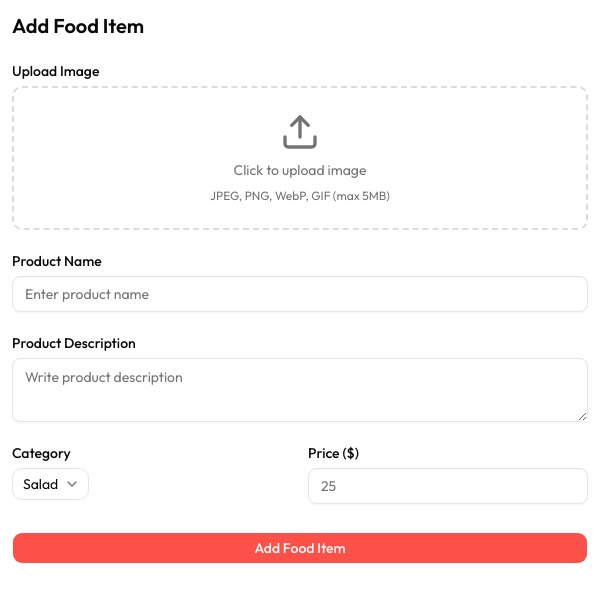
Scenario: AddFoodForm › shows image error when no image is selected on submit
The width and height of the screenshot is (605, 608).
Type "Test Food" into the field labelled "Product Name" at [300, 294], box [12,276,588,312]
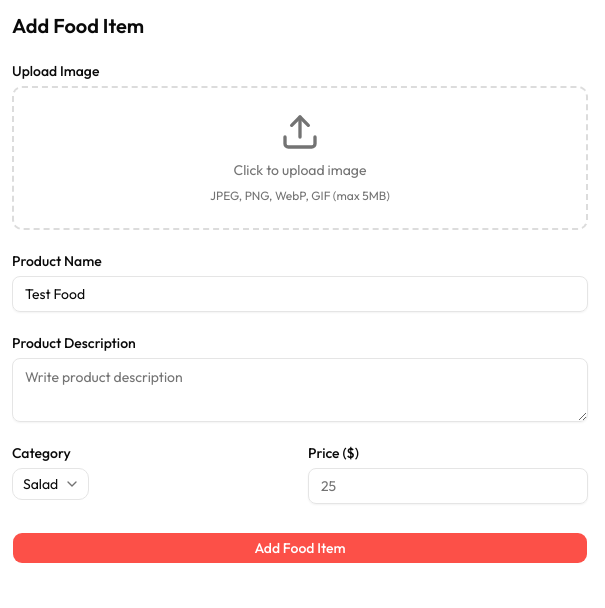
Type "A tasty test food item" into the text box labelled "Product Description" at [300, 390], box [12,358,588,422]
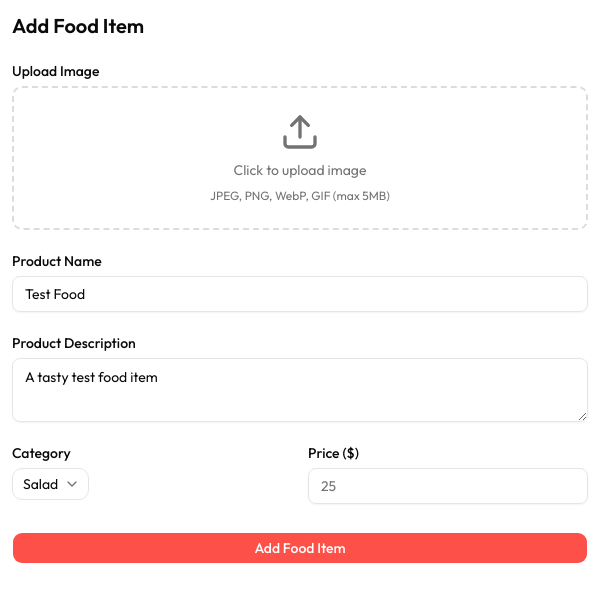
Type "15" into the number field labelled "Price ($)" at [448, 486], box [308,468,588,504]
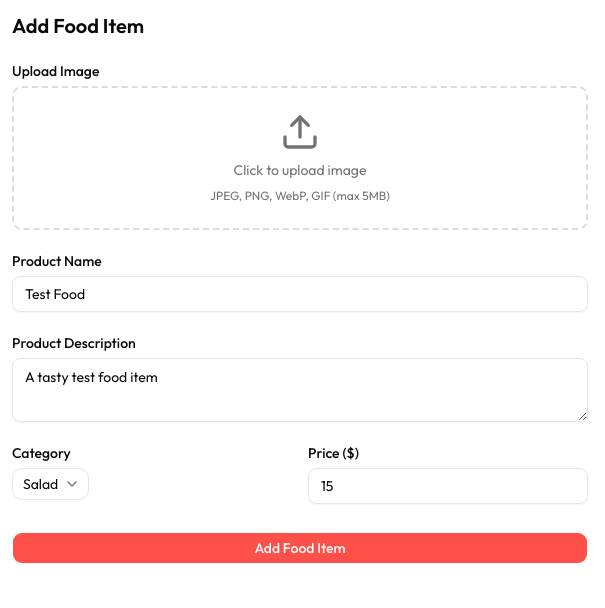
Click the button "Add Food Item" at [300, 548], box [12,532,588,564]
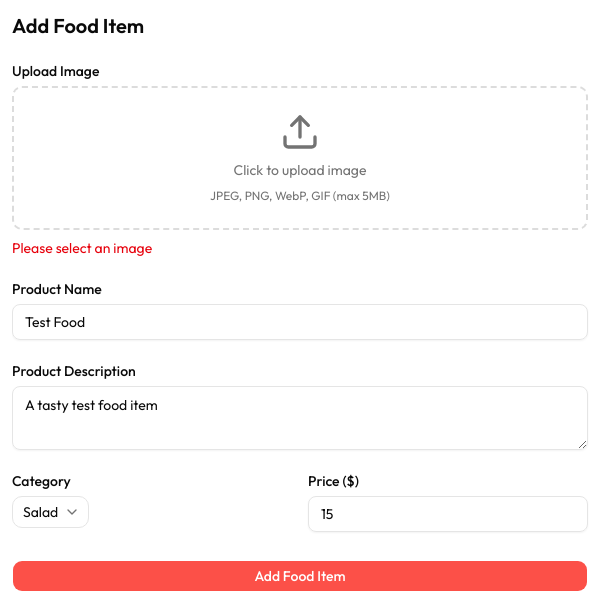
Expected: the text "Please select an image" is shown, [12,239,152,257]
